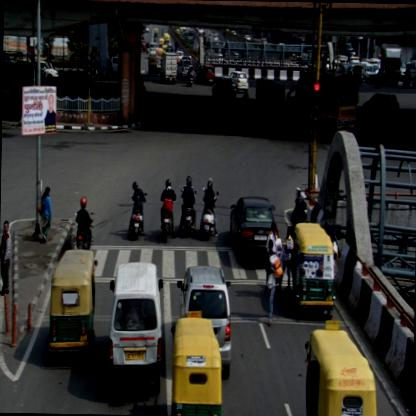car: (107, 263, 160, 400), (176, 265, 232, 380), (228, 196, 282, 267), (362, 61, 376, 84), (197, 66, 216, 82), (176, 58, 189, 79)
motorcycle: (127, 182, 148, 240), (160, 178, 178, 244), (199, 177, 218, 238), (178, 174, 196, 238)
truck: (286, 72, 358, 138), (378, 40, 400, 82)
